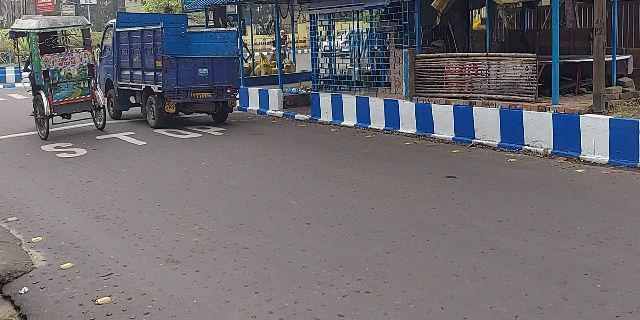Minitruck: (98, 9, 245, 125)
Rickshaw: (11, 11, 109, 144)
